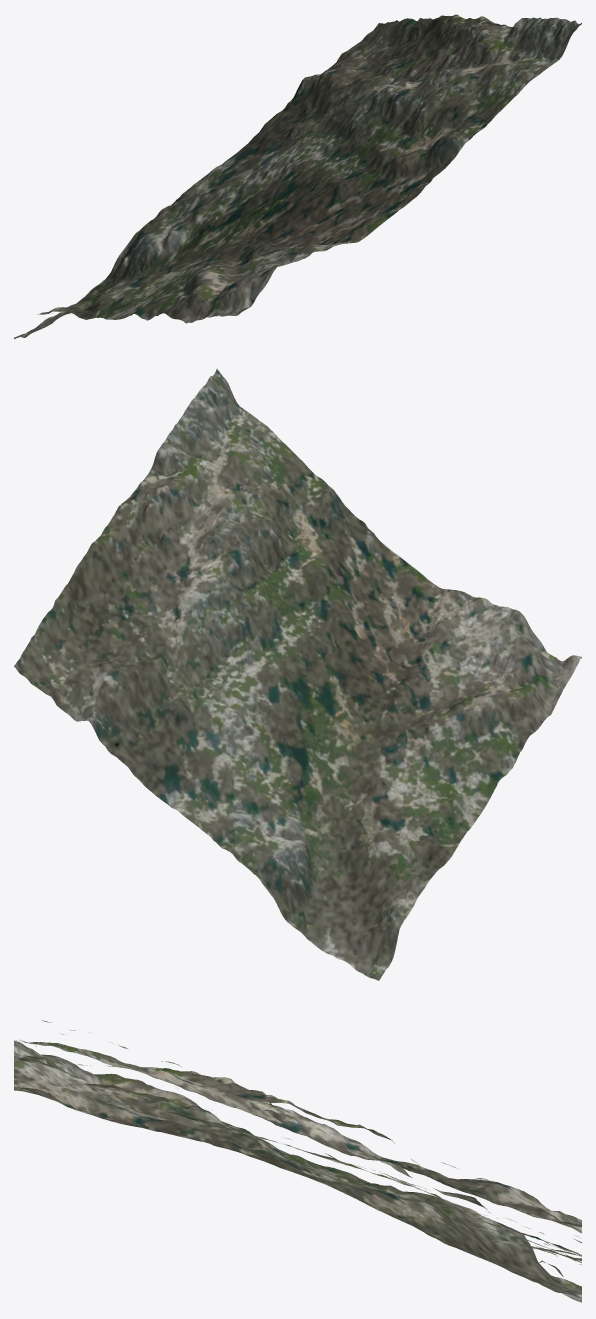
The picture shows the model from 3 angles, top to bottom: view 1: azimuth 30°, elevation 25°; view 2: azimuth 150°, elevation 25°; view 3: azimuth 270°, elevation 25°; orthographic projection. The views are drawn at different scales.
Size of the model in its own units: 250 by 246 by 241.
1 material, 1 textured.
